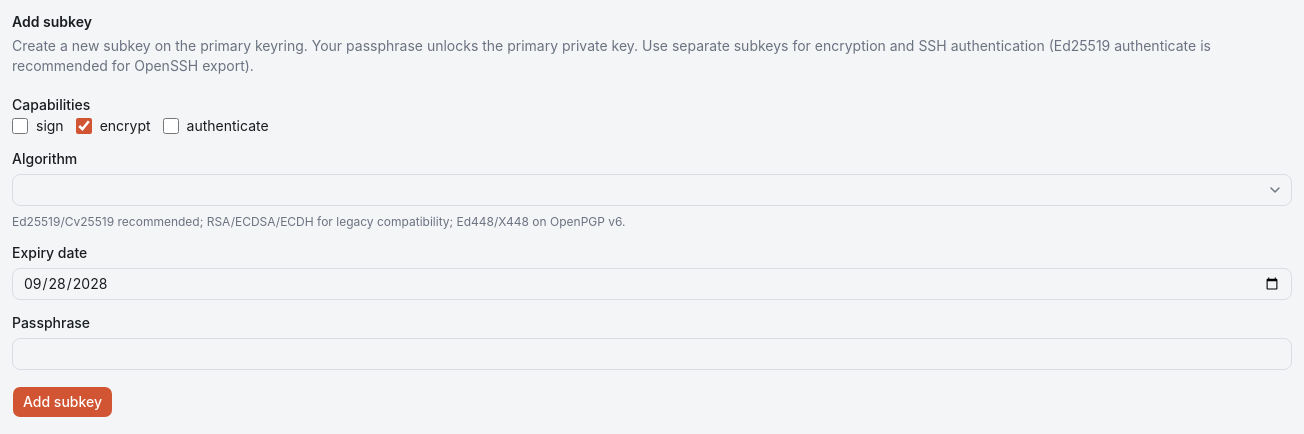
Test case: CreateSubkeyForm capability toggles (controlled) › checks authenticate and clears encrypt (mutual exclusivity)
Expected: the checkbox labelled "encrypt" is checked, 76,118 -> 92,134
What coordinates should you click on to do the following:
click the checkbox labelled "authenticate"
I would click on:
 (171, 126)
Its box is 163,118 -> 179,134.
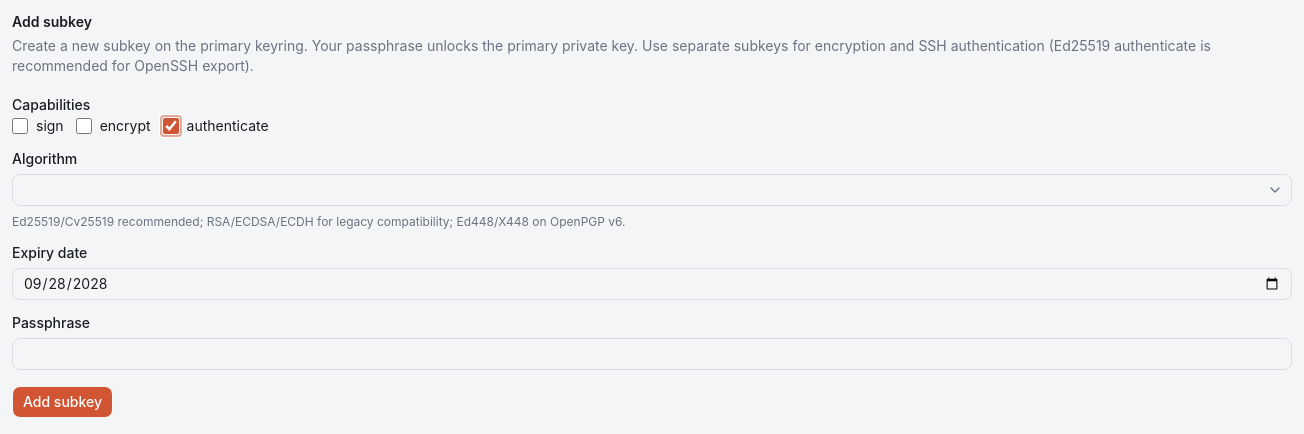
Expected: the checkbox labelled "sign" is not checked, 12,118 -> 28,134
Expected: the checkbox labelled "authenticate" is checked, 163,118 -> 179,134
Expected: the checkbox labelled "encrypt" is not checked, 76,118 -> 92,134
